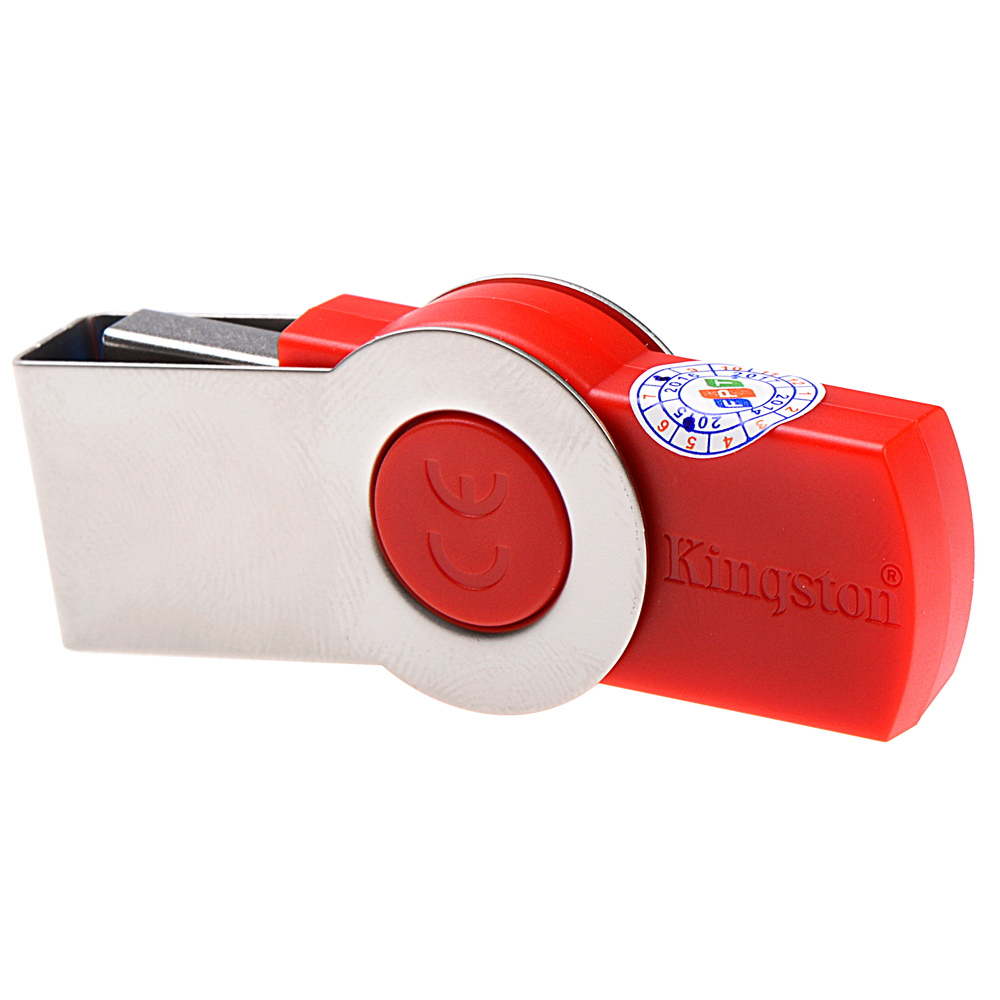Kingston: (644, 509, 906, 637)
